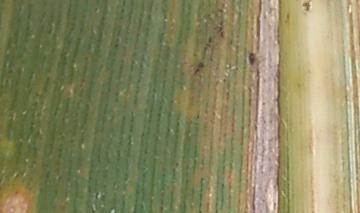tarspot: (301, 1, 313, 13), (247, 51, 257, 65), (283, 10, 292, 25), (197, 60, 206, 69), (216, 7, 226, 15), (217, 17, 225, 27), (212, 25, 225, 31), (202, 45, 207, 60), (218, 30, 225, 39), (193, 67, 200, 75), (195, 111, 201, 120), (221, 76, 227, 85), (173, 160, 180, 167), (112, 41, 119, 48), (119, 7, 125, 14), (207, 34, 212, 42)
